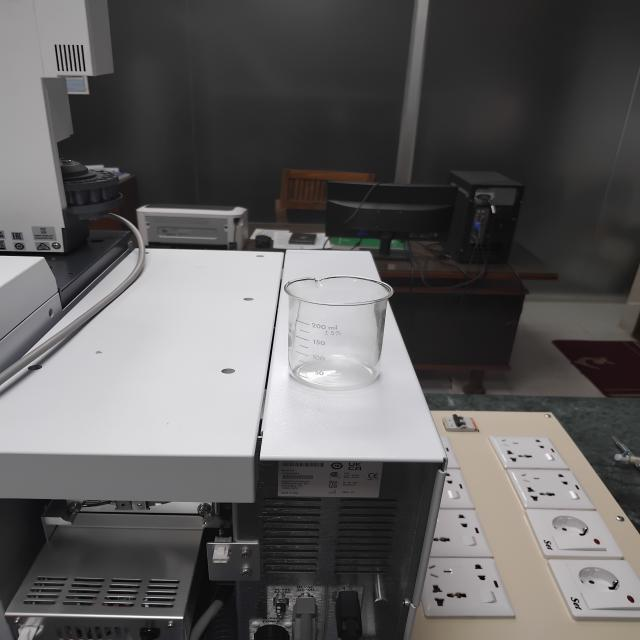Beaker: (257, 244, 420, 403)
